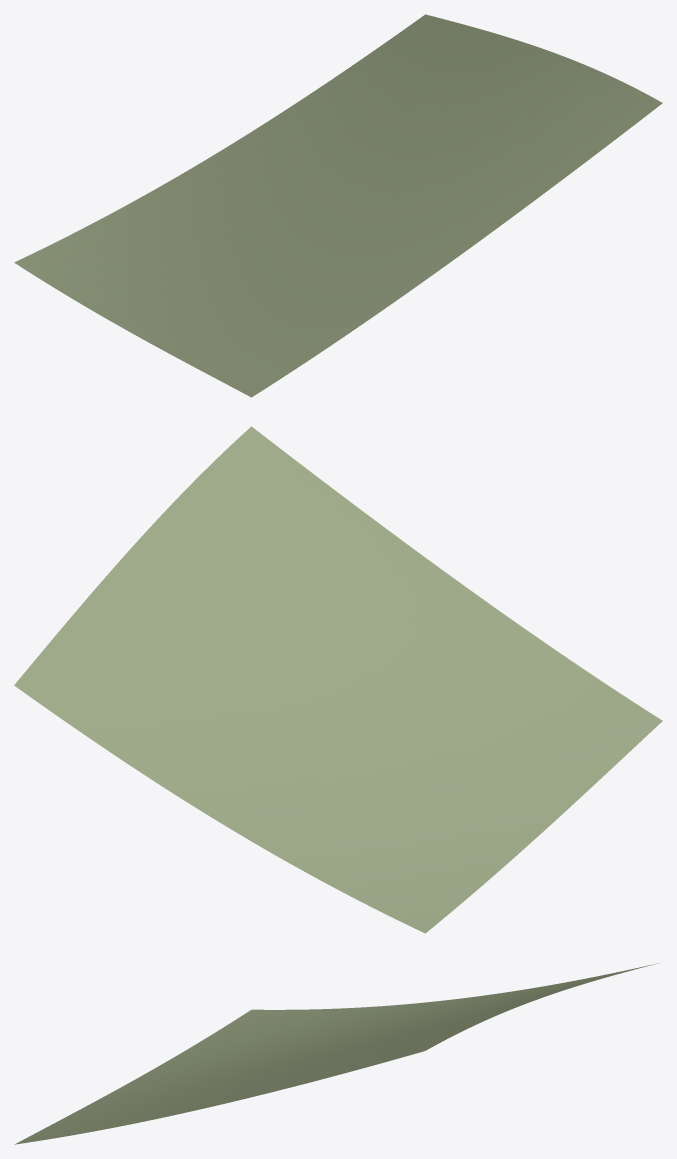
Rendered from alpine-4-5.glb.
3 renders of one model, top to bottom at view 1: azimuth 30°, elevation 25°; view 2: azimuth 150°, elevation 25°; view 3: azimuth 330°, elevation 25°, orthographic.
Visible parts, largest first — view 1: alpine-4-5; view 2: alpine-4-5; view 3: alpine-4-5.
Boxes of the visible parts, left/top/right/bottom form: alpine-4-5: left=14, top=14, right=662, bottom=397; alpine-4-5: left=14, top=426, right=662, bottom=933; alpine-4-5: left=14, top=963, right=659, bottom=1144.
Size of the model in its own units: 256 by 139 by 256.
